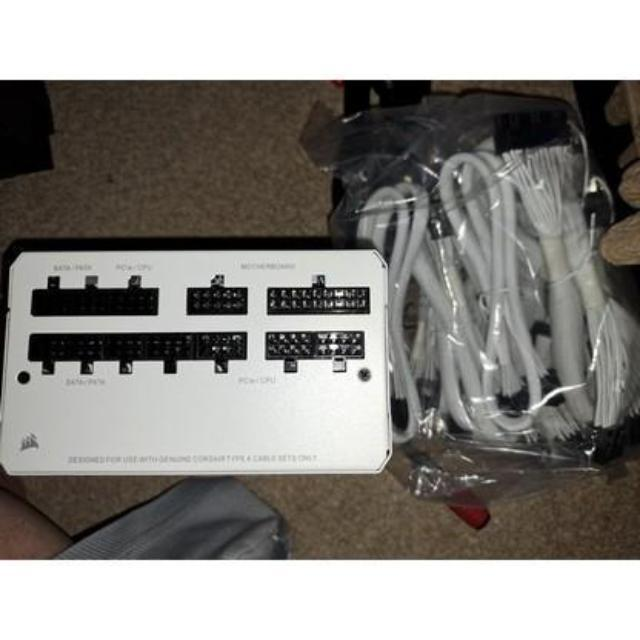PSU: (0, 245, 392, 478)
